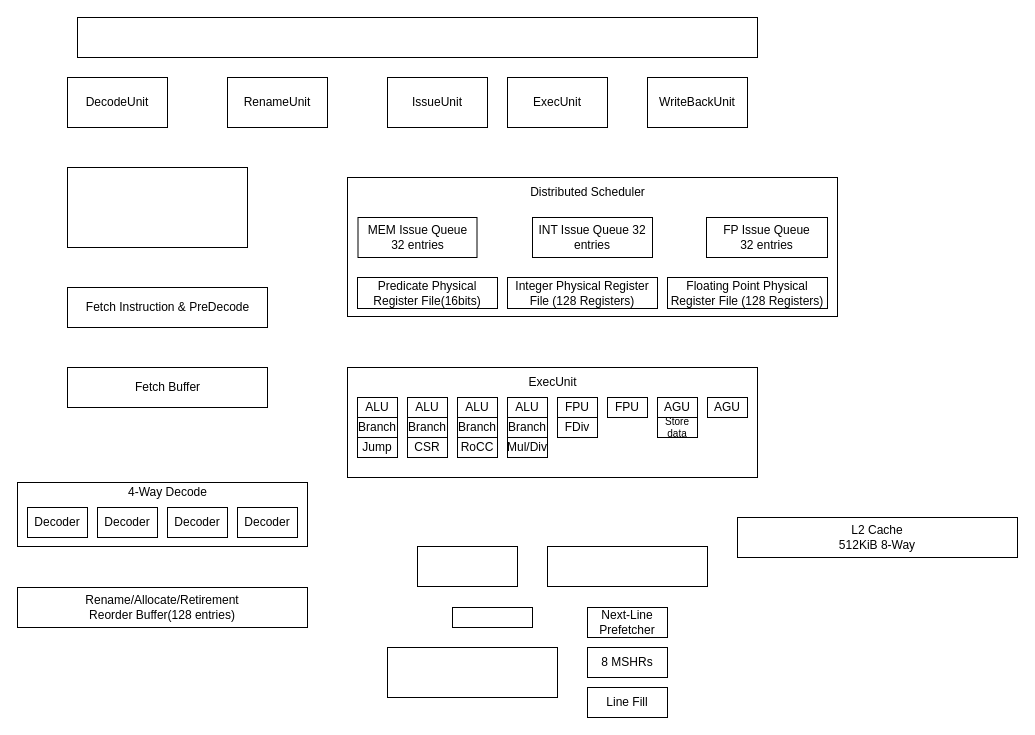
Some shapes in this 1035 by 735 pixel diagram are drawn without their labels. The centre of each missing label's shape, as x and y in pixels:
"DCache TLB" goes at (x=492, y=617).
"L1-DataCache 32 KiB 8-Way" goes at (x=472, y=672).
"L1-Instruction Cache 32-KiB 8-way" goes at (x=157, y=207).
"Load Queue (32 entries)" goes at (x=467, y=566).
"ROB" goes at (x=417, y=37).
"Store Buffer & Forwarding (32 entries)" goes at (x=627, y=566).
